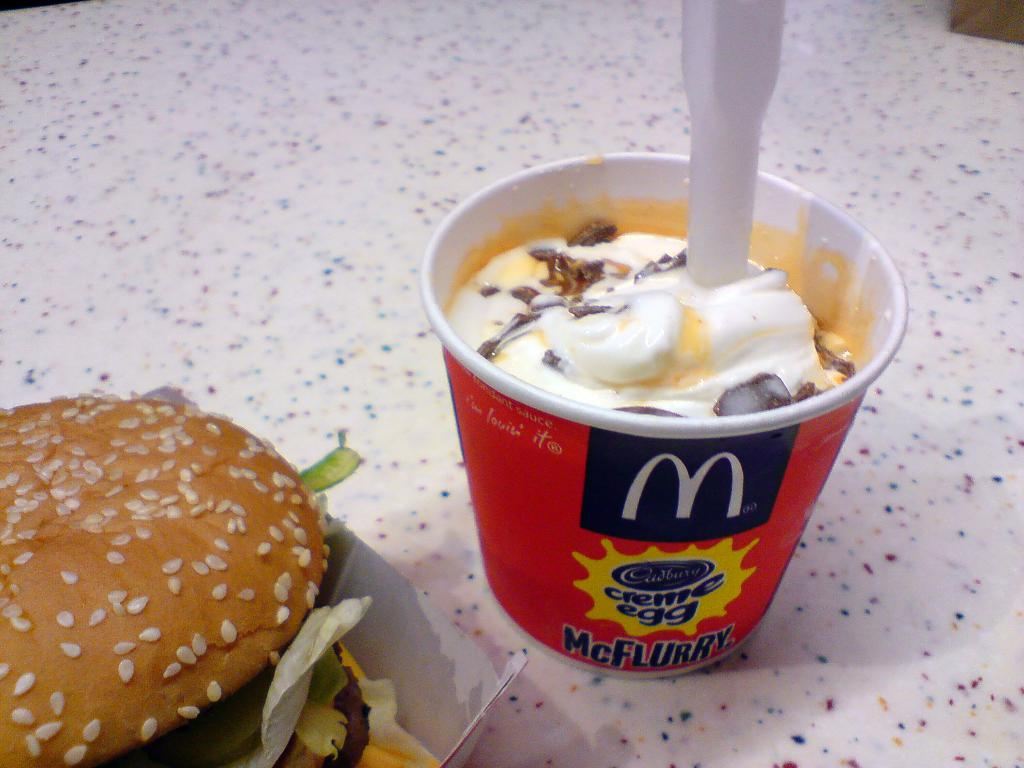Hamburger: (0, 390, 364, 767)
